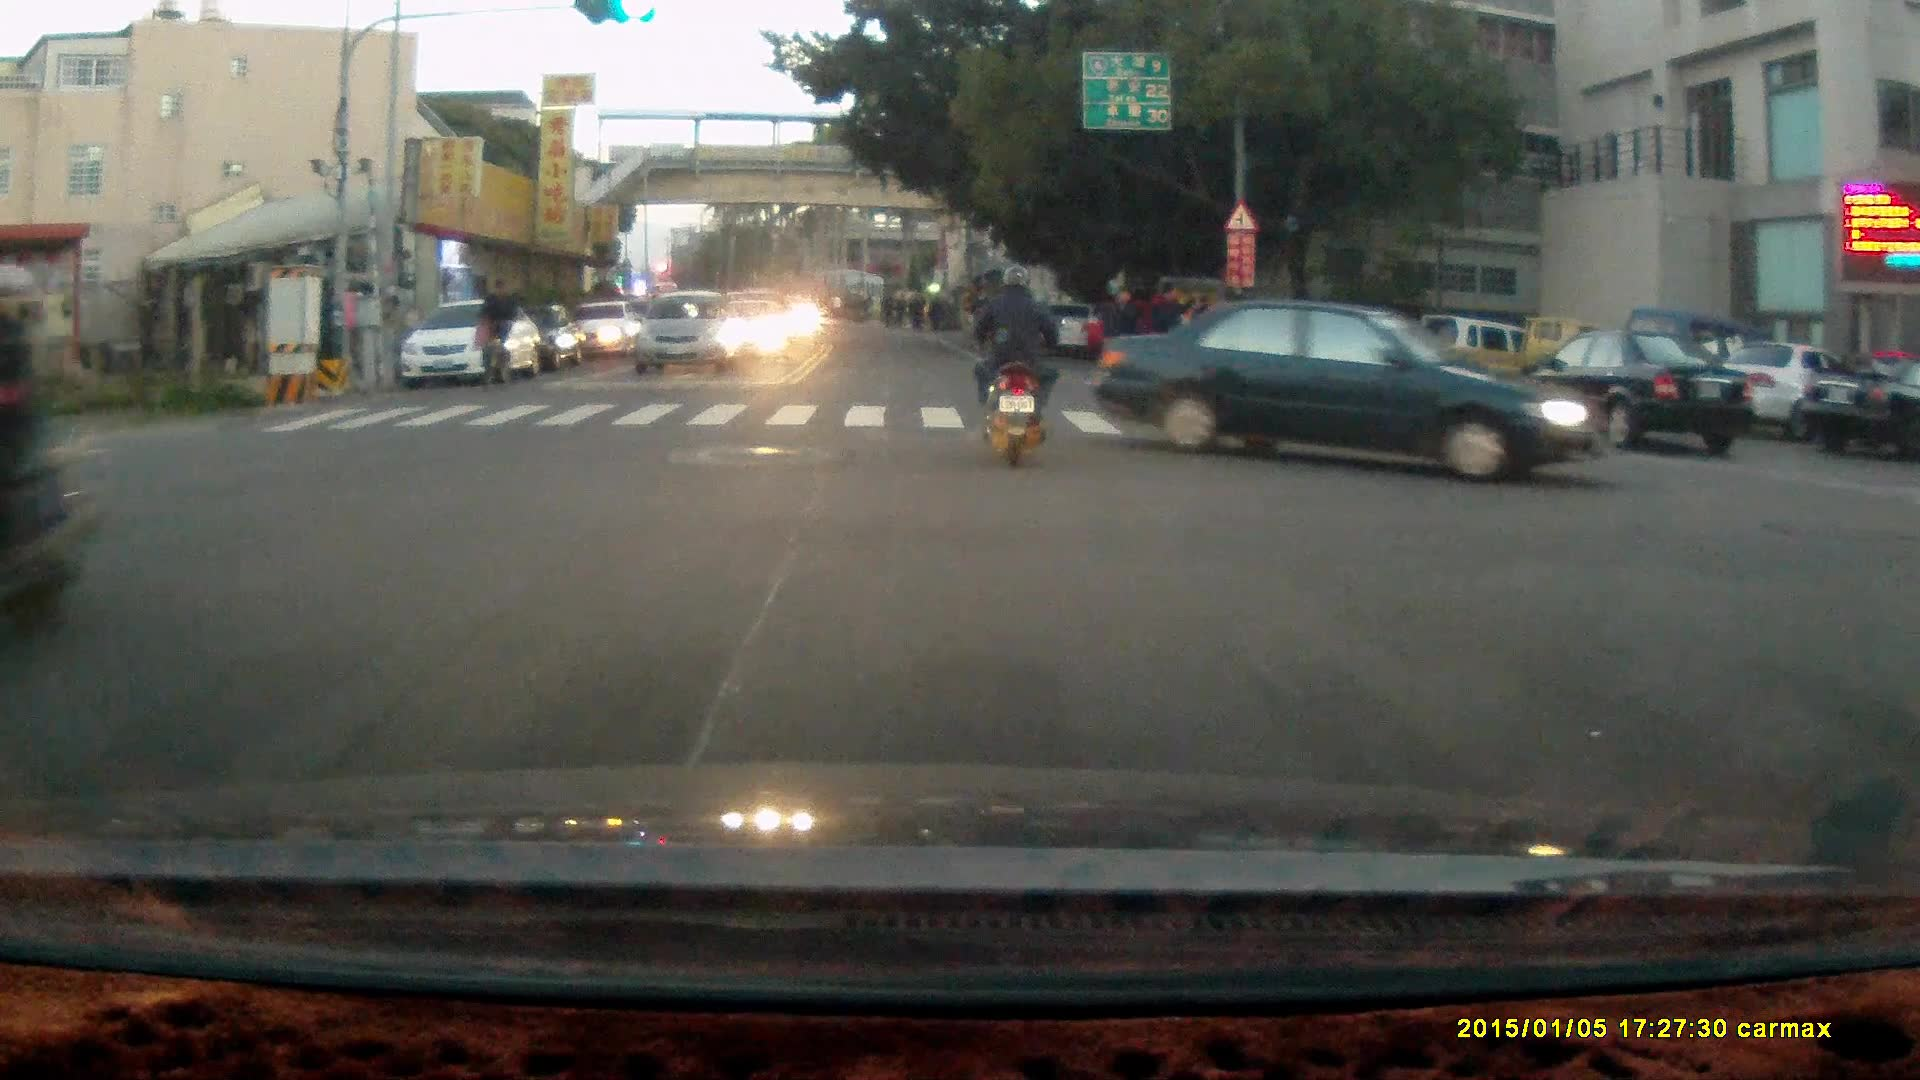pedestrian: (1150, 276, 1184, 377), (1105, 285, 1140, 383)
rider: (0, 257, 101, 654), (968, 262, 1062, 467), (473, 273, 516, 388)
vehicle: (1083, 288, 1608, 485), (1515, 327, 1756, 453), (1697, 337, 1886, 441), (399, 293, 549, 388), (1797, 352, 1920, 460), (630, 290, 747, 378)
